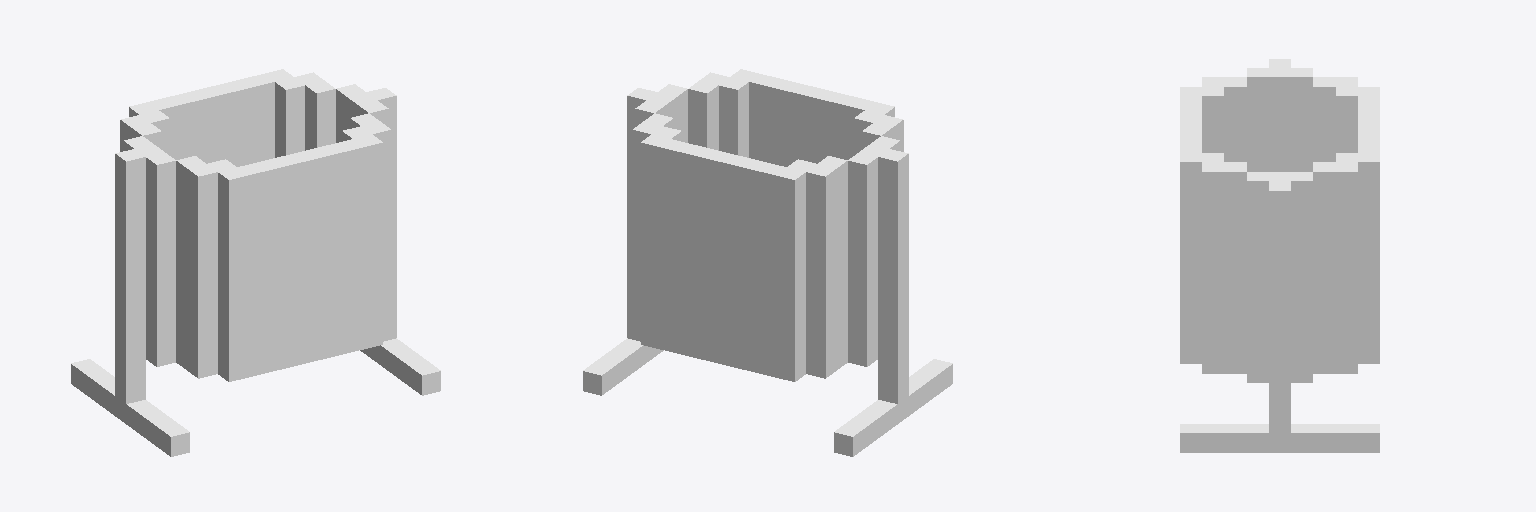
The model's file is bote.obj.
3 views of the same model, side by side, from view 1: azimuth 30°, elevation 25°; view 2: azimuth 150°, elevation 25°; view 3: azimuth 270°, elevation 25° (orthographic).
Parts seen in each view (by area): view 1: object 1; view 2: object 1; view 3: object 1.
Part boxes in pixels (left/top/right/bottom): object 1: left=71, top=69, right=440, bottom=456; object 1: left=583, top=69, right=952, bottom=456; object 1: left=1180, top=59, right=1379, bottom=452.
Size of the model in its own units: 1.4 by 1.3 by 0.9.